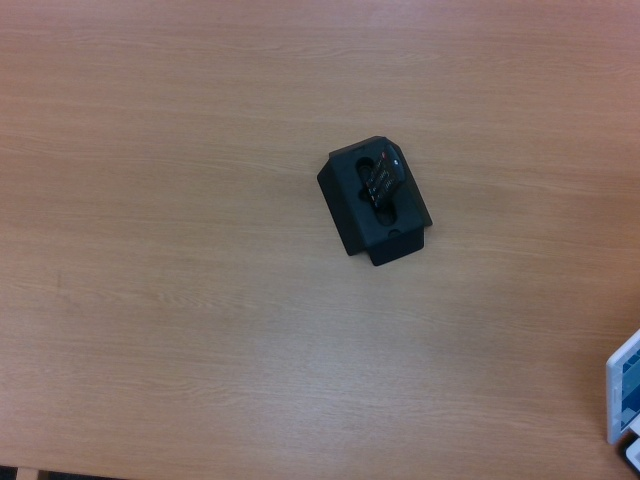remote: (360, 145, 406, 212)
